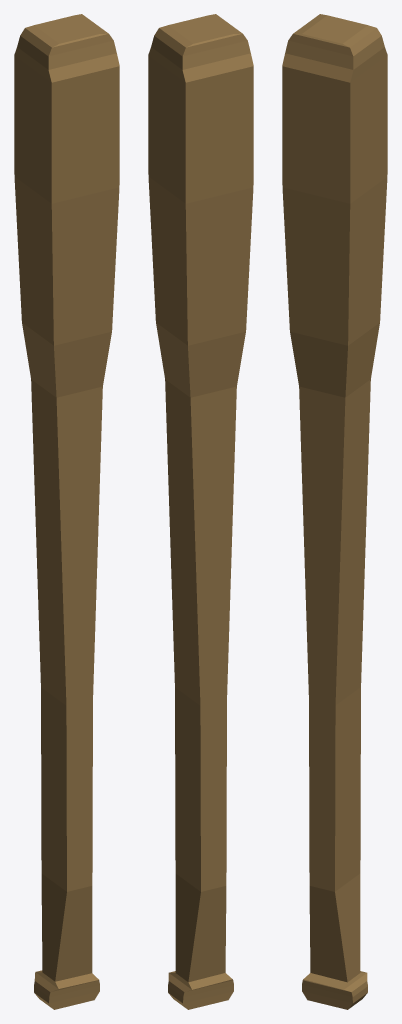
The model's file is Bat.glb.
3 renders of one model, left to right at view 1: azimuth 30°, elevation 25°; view 2: azimuth 210°, elevation 25°; view 3: azimuth 330°, elevation 25°, orthographic.
Parts seen in each view (by area): view 1: Bat; view 2: Bat; view 3: Bat.
Boxes of the visible parts, left/top/right/bottom form: Bat: left=14, top=14, right=119, bottom=1009; Bat: left=148, top=14, right=253, bottom=1009; Bat: left=282, top=14, right=387, bottom=1009.
Size of the model in its own units: 1.29 by 17.52 by 1.23.
